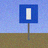sign: (19, 5, 38, 40)
